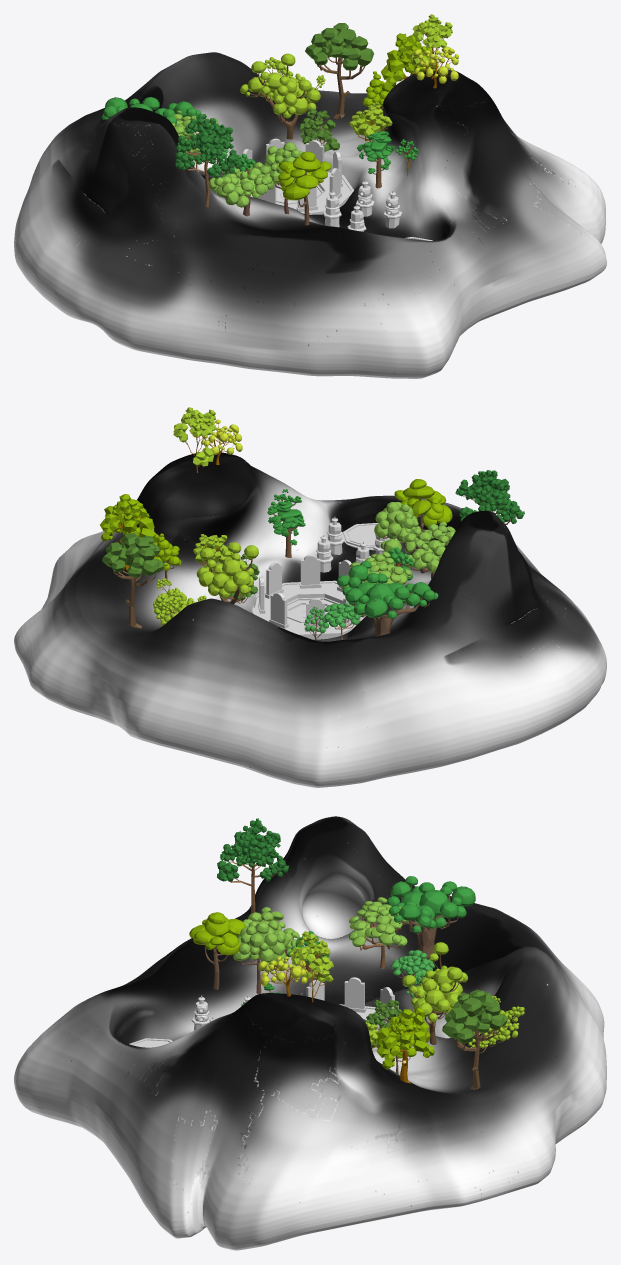
3 views of the same model, one above another, from view 1: azimuth 30°, elevation 25°; view 2: azimuth 150°, elevation 25°; view 3: azimuth 270°, elevation 25° (orthographic). The views are drawn at different scales.
Visible parts, largest first — view 1: 立方体.019, ploygon128, ploygon110, ploygon116, ploygon130, ploygon138, ploygon90, ploygon122, ploygon136, ploygon96, ploygon92, ploygon118 (+5 smaller); view 2: 立方体.019, ploygon122, ploygon110, ploygon116, 立方体.020, ploygon128, ploygon130, ploygon90, ploygon138, ploygon142, ploygon96, ploygon118 (+10 smaller); view 3: 立方体.019, ploygon122, ploygon128, ploygon116, ploygon110, ploygon90, ploygon146, ploygon142, ploygon138, ploygon96, ploygon136, ploygon126 (+4 smaller).
Boxes of the visible parts, x1,y1,x2,y2 form: 立方体.019: [14, 52, 606, 378]; ploygon128: [175, 114, 243, 207]; ploygon110: [240, 53, 320, 139]; ploygon116: [305, 23, 373, 119]; ploygon130: [209, 162, 278, 216]; ploygon138: [278, 151, 331, 225]; ploygon90: [381, 33, 437, 91]; ploygon122: [101, 97, 201, 125]; ploygon136: [413, 46, 458, 88]; ploygon96: [410, 14, 452, 79]; ploygon92: [299, 108, 339, 152]; ploygon118: [357, 131, 395, 188]; 立方体.019: [14, 452, 606, 787]; ploygon122: [337, 561, 438, 636]; ploygon110: [196, 542, 258, 604]; ploygon116: [101, 533, 164, 628]; 立方体.020: [252, 580, 365, 639]; ploygon128: [455, 470, 524, 524]; ploygon130: [404, 521, 455, 578]; ploygon90: [100, 494, 158, 569]; ploygon138: [394, 479, 452, 548]; ploygon142: [374, 502, 421, 567]; ploygon96: [173, 407, 216, 472]; ploygon118: [267, 496, 305, 557]; 立方体.019: [14, 816, 606, 1250]; ploygon122: [387, 876, 475, 958]; ploygon128: [217, 818, 288, 913]; ploygon116: [442, 989, 507, 1089]; ploygon110: [402, 942, 467, 1044]; ploygon90: [376, 1007, 434, 1083]; ploygon146: [349, 897, 408, 968]; ploygon142: [233, 920, 286, 993]; ploygon138: [189, 912, 246, 989]; ploygon96: [291, 931, 333, 1002]; ploygon136: [258, 952, 307, 996]; ploygon126: [468, 995, 524, 1053].
Size of the model in its own units: 37101 by 15856 by 34051.
